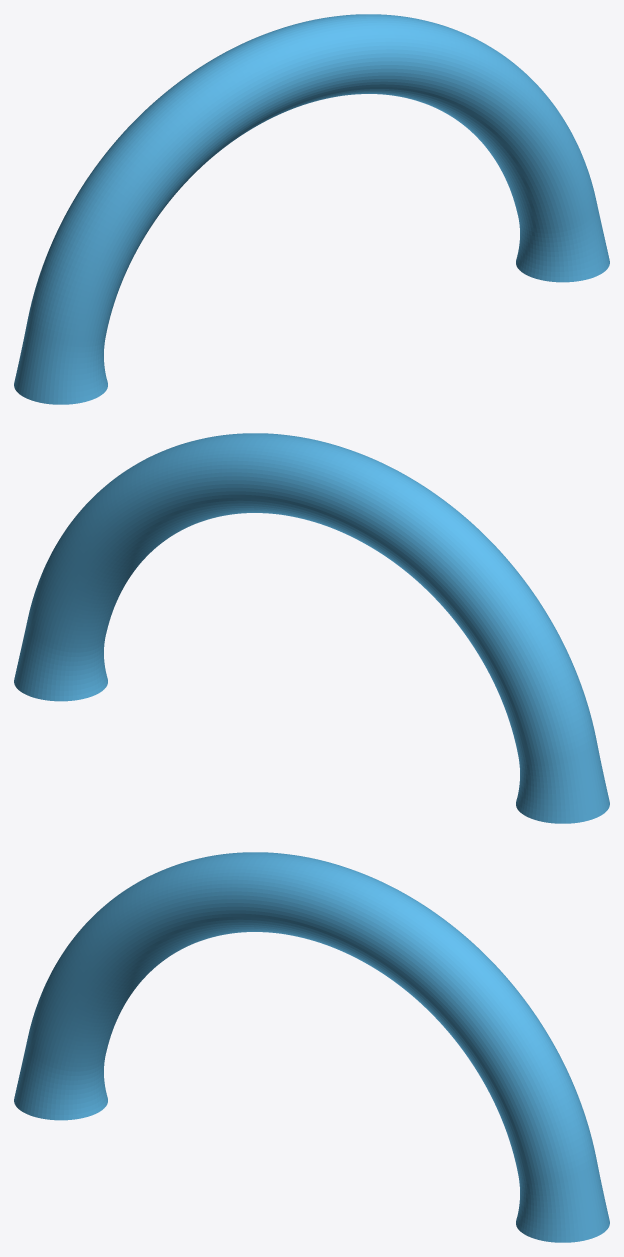
The model's file is arch_blue.glb.
The picture shows the model from 3 angles, top to bottom: view 1: azimuth 30°, elevation 25°; view 2: azimuth 150°, elevation 25°; view 3: azimuth 330°, elevation 25°; orthographic projection.
Parts seen in each view (by area): view 1: geometry_0; view 2: geometry_0; view 3: geometry_0.
Boxes of the visible parts, <box> form: geometry_0: <box>14,14,609,404</box>; geometry_0: <box>14,433,609,823</box>; geometry_0: <box>14,852,609,1242</box>.
Size of the model in its own units: 10.46 by 5.12 by 1.46.
